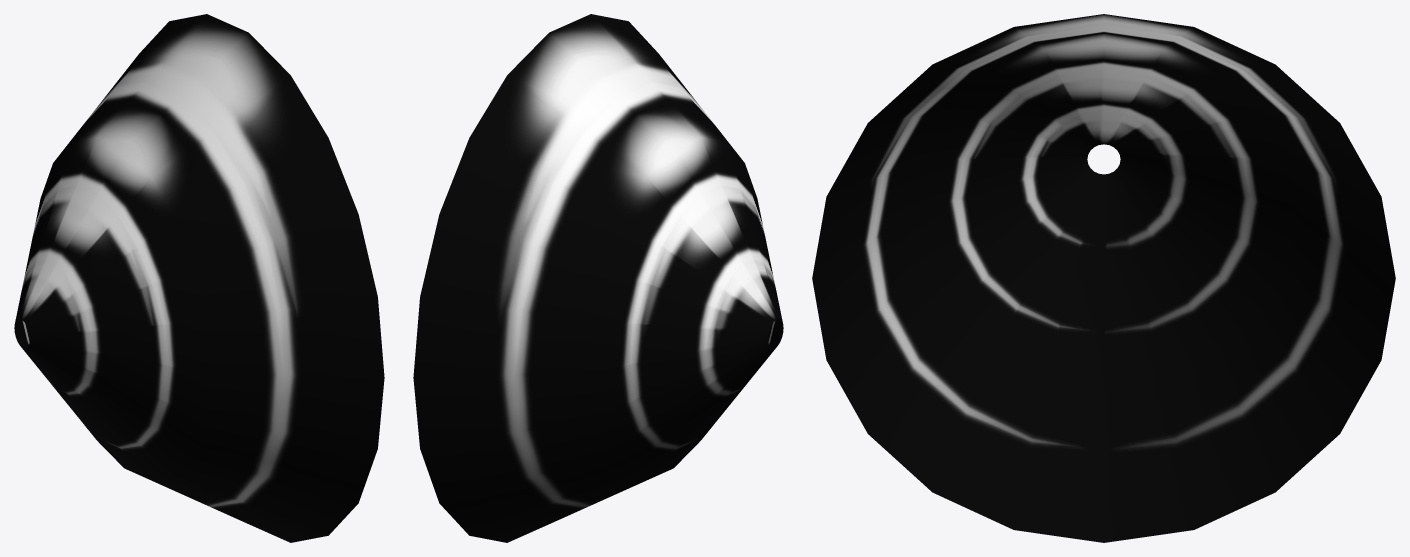
The model's file is MuzzleFlash_bigCone.fbx.
3 views of the same model, side by side, from view 1: azimuth 30°, elevation 25°; view 2: azimuth 150°, elevation 25°; view 3: azimuth 270°, elevation 25° (orthographic). The views are drawn at different scales.
Parts seen in each view (by area): view 1: MuzzleFlash_bigCone; view 2: MuzzleFlash_bigCone; view 3: MuzzleFlash_bigCone.
Boxes of the visible parts, <box> form: MuzzleFlash_bigCone: <box>14,14,384,542</box>; MuzzleFlash_bigCone: <box>413,14,783,542</box>; MuzzleFlash_bigCone: <box>812,14,1395,542</box>.
Bounding box in the file's own units: 28.29 × 58.62 × 58.62.
Materials: 1 (1 with a texture image).
